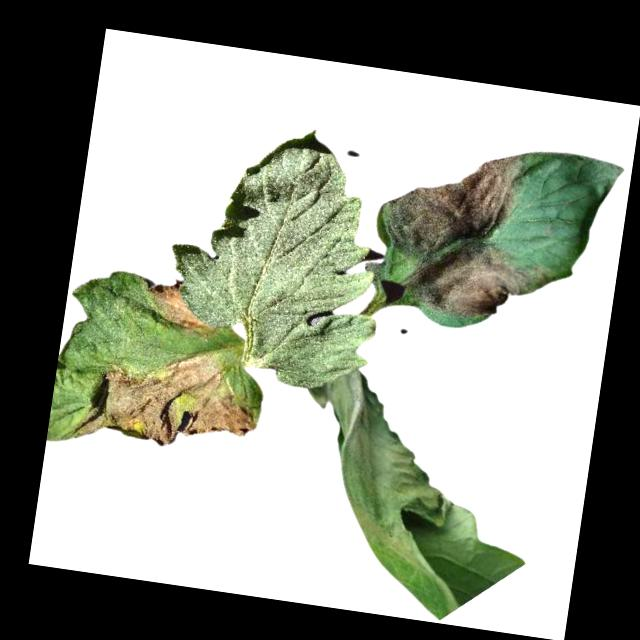Late_blight: (295, 367, 548, 630), (372, 130, 571, 328), (69, 332, 267, 459), (141, 277, 221, 333)
healthy: (154, 109, 403, 396)
